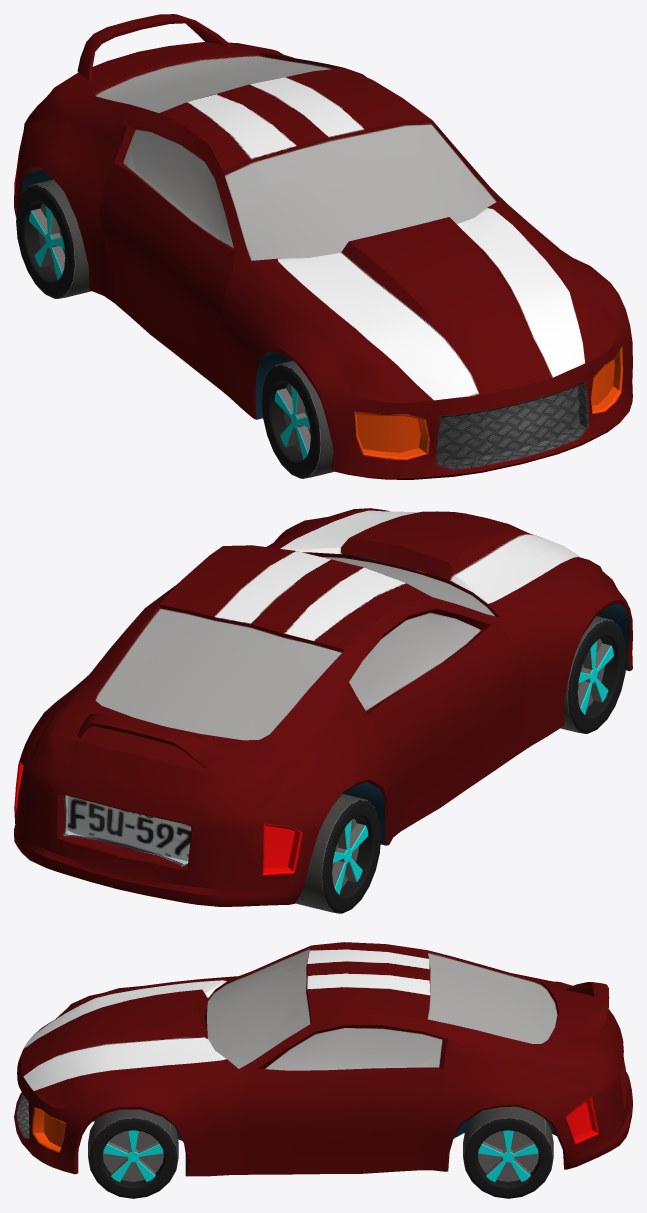
Rendered from carro.obj.
The picture shows the model from 3 angles, top to bottom: view 1: azimuth 30°, elevation 25°; view 2: azimuth 150°, elevation 25°; view 3: azimuth 270°, elevation 25°; orthographic projection. The views are drawn at different scales.
Visible parts, largest first — view 1: polySurface11; view 2: polySurface11; view 3: polySurface11.
Part boxes in pixels (box(x1,y1,x2,y2)): polySurface11: box(14, 14, 632, 479); polySurface11: box(14, 508, 632, 913); polySurface11: box(14, 942, 632, 1198).
Bounding box in the file's own units: 1.79 × 1.19 × 3.96.
1 material, 1 textured.
